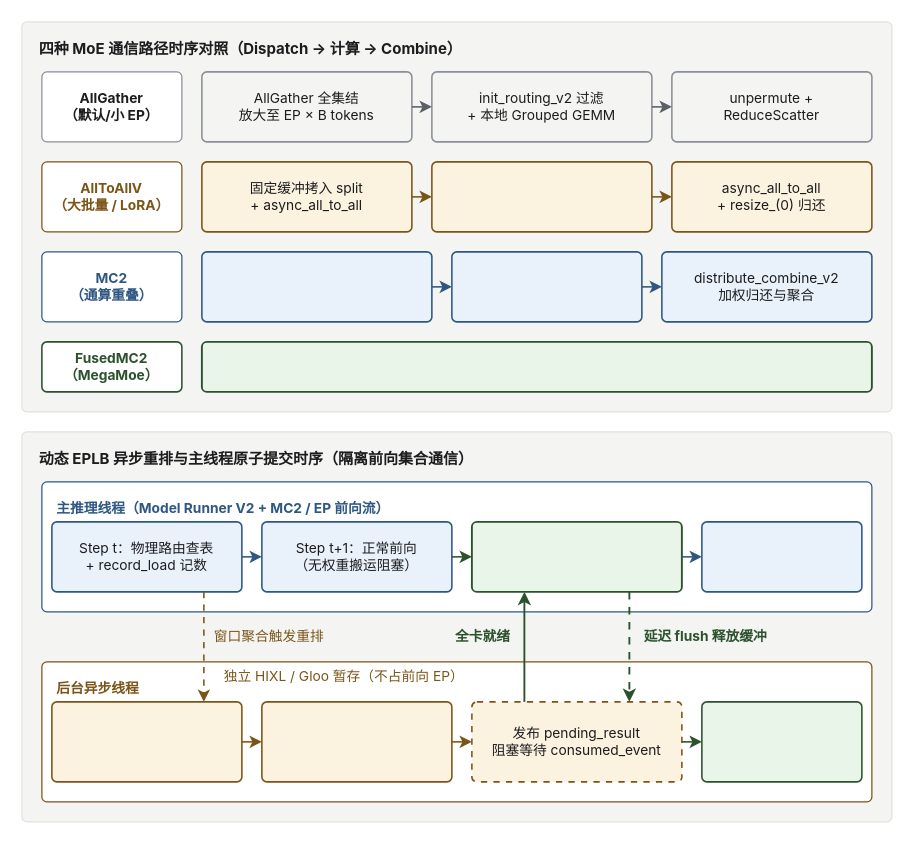
Image size: 914x844. Some labels were removed from this diagram. Here are the shapes that lost their labels. From the top down, the centre of each, then its label:
At (541,196): "wait 后立即 resize_(0) 释放显存 + Grouped GEMM".
At (316,286): "distribute_dispatch_v2 基于 HCCL_BUFFSIZE 通信".
At (546,286): "Grouped GEMM （≤ 512 tokens/rank）".
At (536,366): "单算子融合：dispatch_ffn_combine 或 CANN MegaMoe（全局对称缓冲 + 可选共享专家内联）".
At (576,556): "Step 间隙：原子提交 搬入权重 + 原地刷新路由表".
At (781,556): "Step t+2：命中新映射 ACL Graph 无需重捕获".
At (146,741): "物理 load 映回逻辑空间 STAIR 策略计算新放置".
At (356,741): "stage_explicit_layer_transfer 拉取跨卡权重入接收缓冲".
At (781,741): "收到确认后复用缓冲 继续下一变更层迁移".
